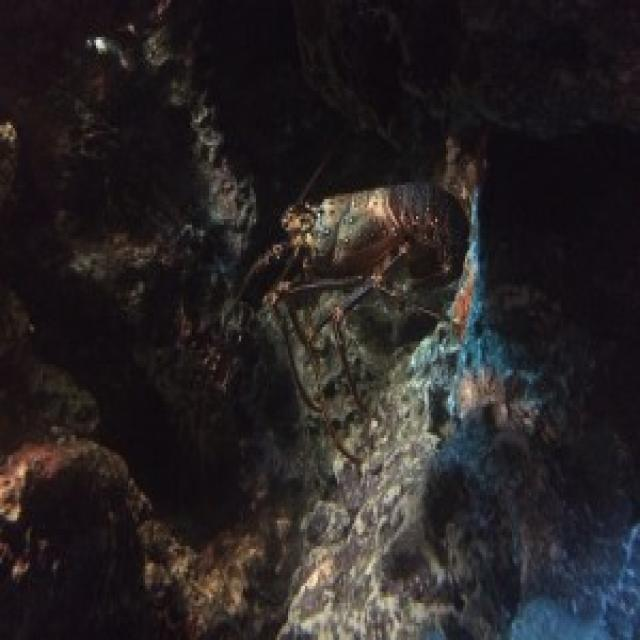lobsters: (186, 133, 586, 369)
